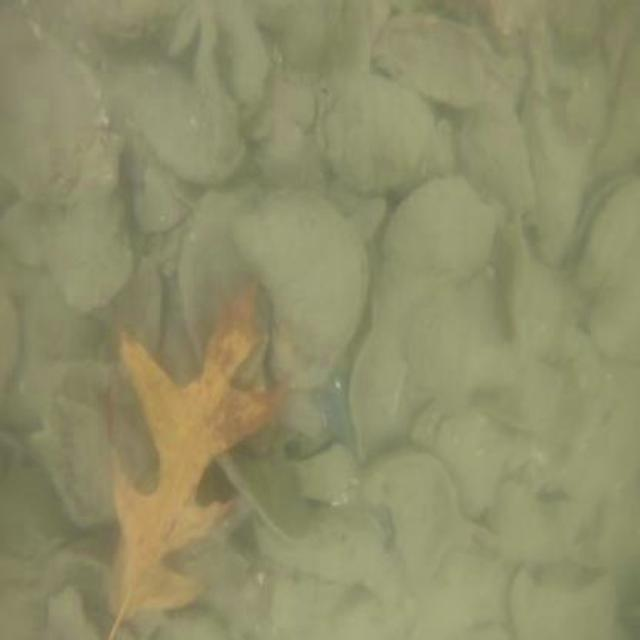Oyster-Closed: (230, 183, 371, 394), (364, 447, 498, 596), (41, 363, 159, 526), (325, 72, 452, 198), (47, 136, 130, 310), (133, 65, 248, 186), (383, 178, 493, 280), (256, 503, 388, 586), (409, 398, 501, 512), (458, 76, 534, 211), (522, 90, 578, 261), (410, 549, 511, 638), (568, 170, 638, 298), (217, 443, 310, 538), (351, 302, 406, 461), (236, 0, 343, 70), (510, 570, 619, 638), (491, 481, 578, 562), (594, 31, 638, 180), (592, 287, 638, 360)
